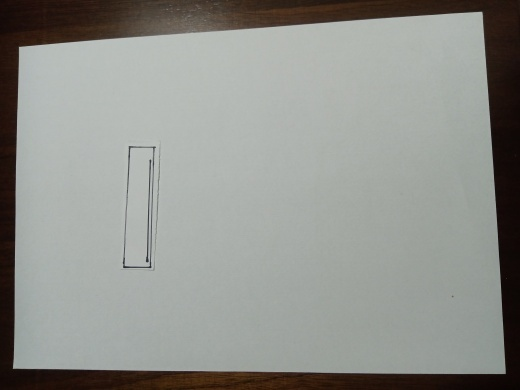text: (128, 146, 156, 275)
